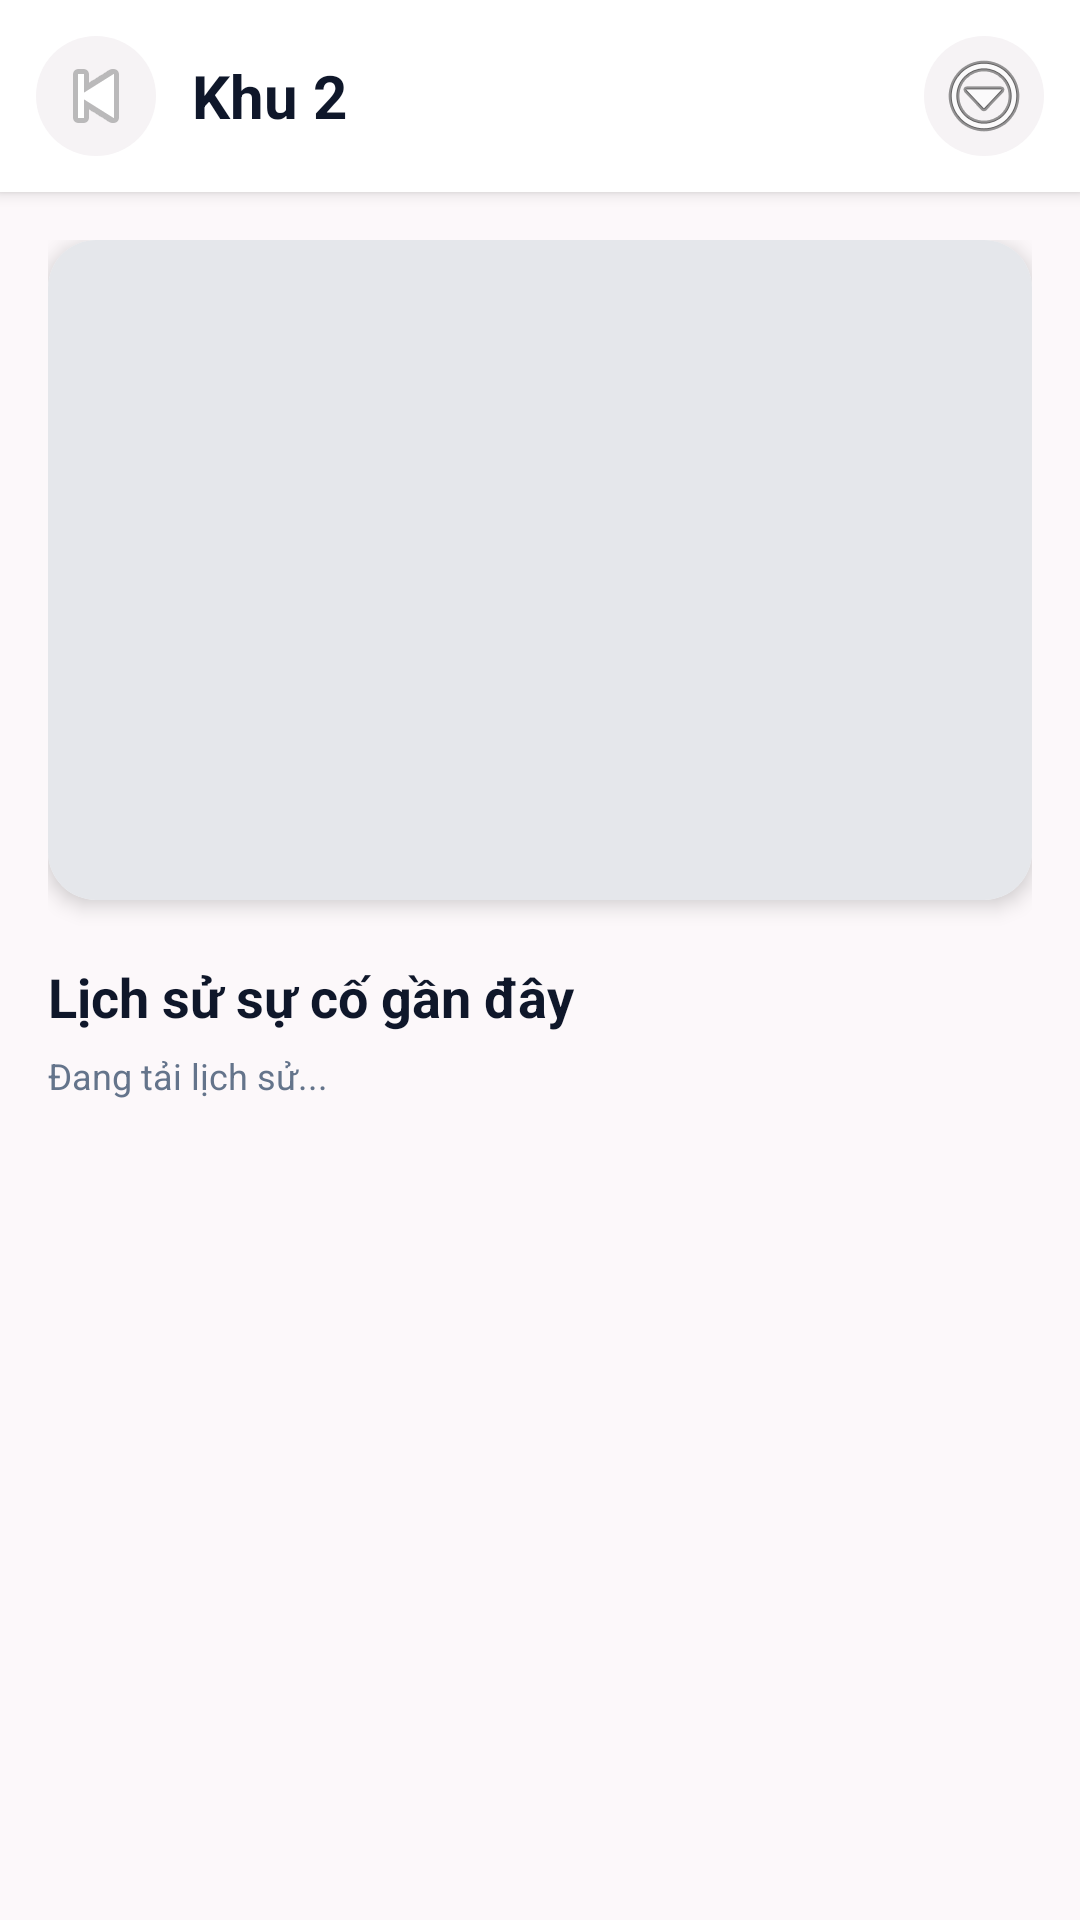

Where to tap for icons on this 1080 × 1920 app screen, as (x,y):
Quay lại: (96,96)
Tùy chọn: (984,96)
